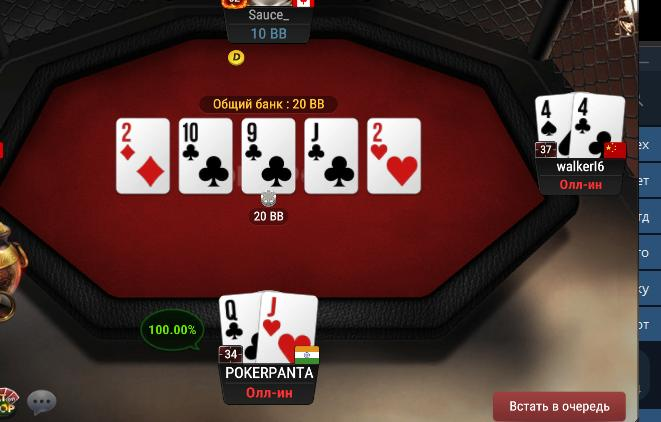10c: (179, 118, 232, 194)
2d: (117, 118, 169, 194)
2h: (368, 119, 422, 193)
4c: (572, 92, 625, 158)
4s: (533, 93, 571, 161)
9c: (242, 118, 294, 194)
Jc: (307, 119, 358, 192)
Jh: (261, 290, 318, 363)
Qc: (218, 293, 259, 365)
